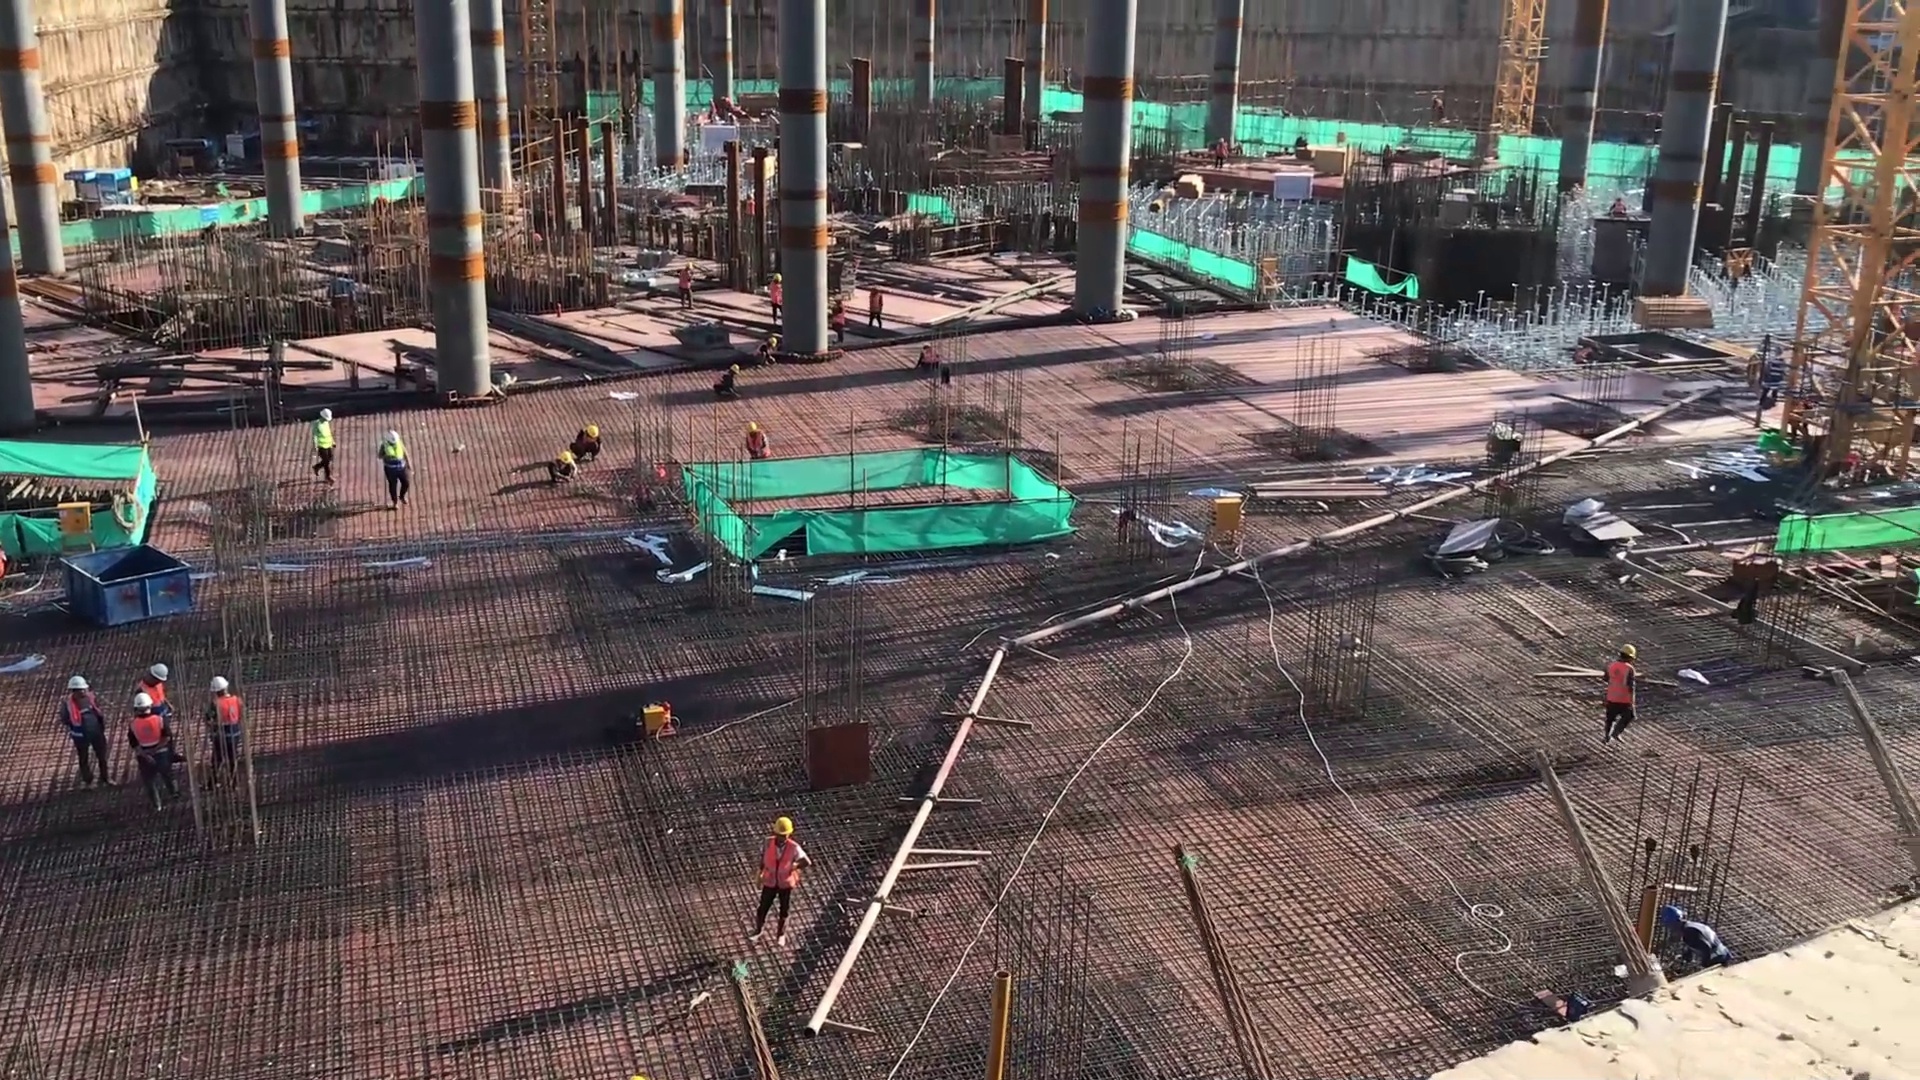helmet: (1656, 903, 1683, 934), (204, 671, 231, 697), (1615, 640, 1640, 667), (63, 672, 91, 696), (127, 691, 155, 712), (148, 660, 171, 684), (770, 813, 795, 838), (383, 429, 402, 449), (558, 449, 575, 466), (741, 419, 760, 435), (585, 424, 602, 441), (316, 406, 333, 422), (729, 362, 745, 378), (765, 335, 780, 347), (831, 292, 844, 304), (770, 272, 783, 283), (681, 258, 693, 270), (919, 341, 934, 351)
person: (746, 811, 813, 945), (50, 667, 113, 790), (122, 689, 180, 819), (193, 669, 252, 793), (1654, 901, 1735, 980), (1596, 634, 1649, 749), (371, 425, 427, 516), (305, 398, 344, 490), (135, 656, 178, 729), (736, 418, 775, 471), (563, 422, 609, 467), (542, 445, 584, 489), (711, 358, 747, 401), (825, 288, 852, 342), (746, 335, 781, 372), (862, 281, 888, 329), (761, 269, 785, 319), (675, 260, 699, 310), (909, 340, 943, 375)
vest: (122, 708, 179, 781), (755, 835, 802, 897), (201, 696, 246, 758), (58, 696, 103, 742), (1682, 920, 1730, 963), (1603, 660, 1637, 706), (376, 442, 414, 479), (139, 681, 173, 716), (312, 421, 339, 454), (746, 433, 772, 460), (768, 283, 784, 307), (868, 292, 884, 317), (831, 304, 845, 329), (678, 272, 693, 293), (919, 350, 937, 365)
